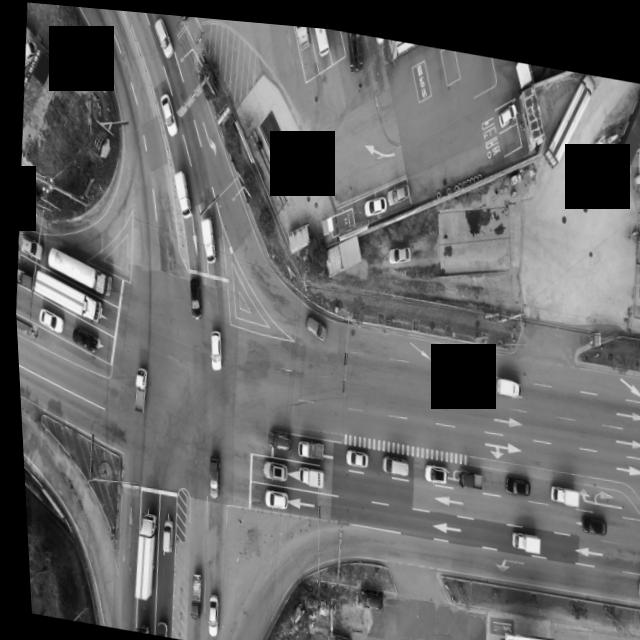car: (152, 13, 177, 58), (156, 89, 179, 134), (184, 272, 202, 318), (385, 169, 411, 200), (202, 450, 219, 496), (68, 324, 97, 350), (205, 323, 222, 367), (496, 88, 518, 120), (362, 185, 387, 213), (302, 308, 326, 337), (15, 234, 41, 260), (34, 307, 61, 332), (200, 590, 215, 634), (257, 454, 284, 477), (378, 447, 406, 469), (383, 235, 409, 258), (352, 581, 378, 604), (575, 504, 601, 526), (500, 465, 525, 487), (419, 454, 443, 476), (264, 424, 287, 446), (259, 484, 283, 505), (155, 514, 169, 550), (320, 623, 346, 640), (342, 442, 365, 461), (147, 619, 160, 634)
medium_truck: (542, 59, 600, 165), (22, 265, 100, 319), (40, 242, 114, 298), (124, 509, 157, 602), (347, 26, 367, 66)
small_bus: (311, 22, 330, 52)
small_truck: (170, 164, 195, 217), (194, 208, 217, 260), (126, 362, 144, 410), (181, 569, 198, 615), (543, 472, 575, 496), (503, 520, 535, 544), (292, 459, 321, 483), (292, 431, 320, 455), (492, 365, 519, 389), (453, 459, 479, 481), (12, 265, 33, 290), (293, 20, 312, 44), (632, 566, 640, 587)
